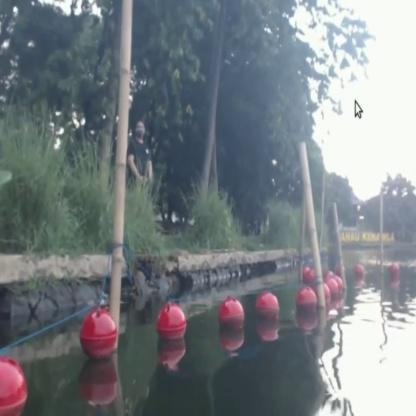red_buoy: (80, 310, 120, 360), (0, 360, 24, 414), (156, 305, 186, 344), (219, 298, 246, 340), (256, 290, 281, 329), (297, 290, 317, 320), (331, 274, 342, 300), (351, 262, 364, 280), (324, 284, 331, 308)
